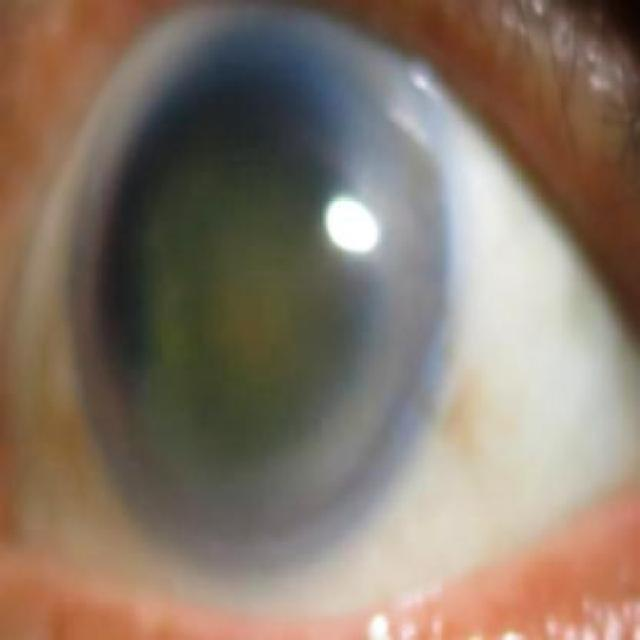Cataract: (69, 8, 441, 579)
